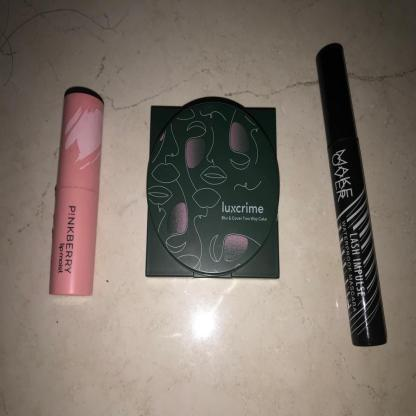lipstick: (27, 61, 116, 320)
